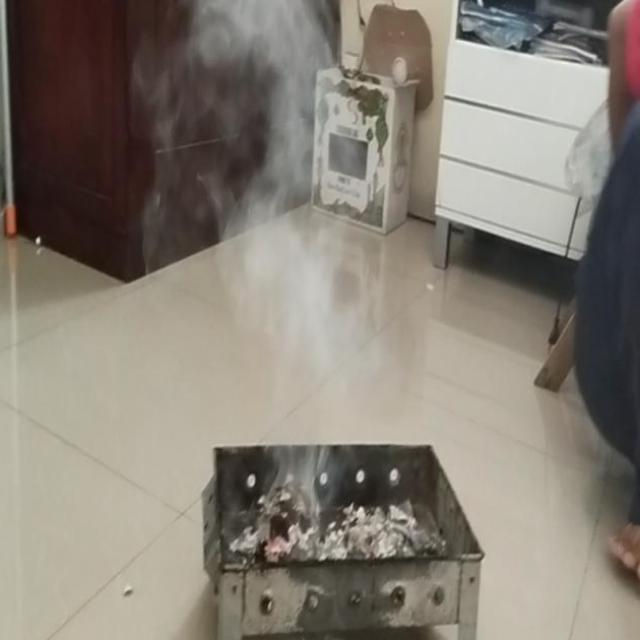fire: (195, 0, 330, 302), (240, 306, 388, 512)
